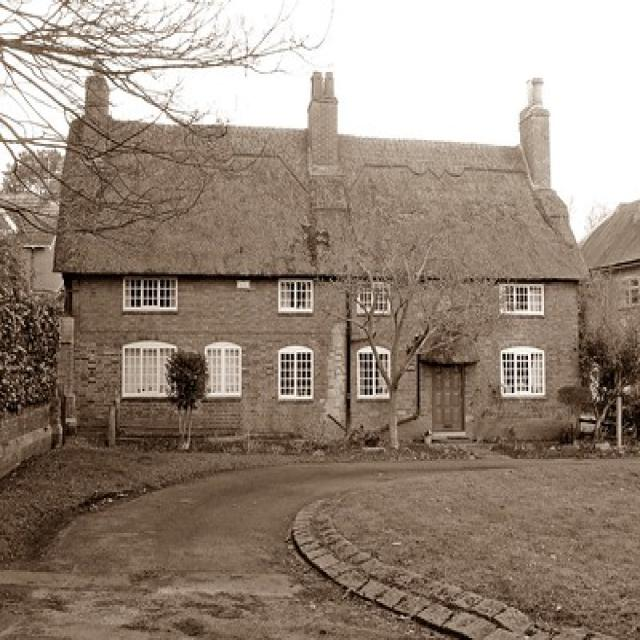building: (48, 61, 592, 448)
